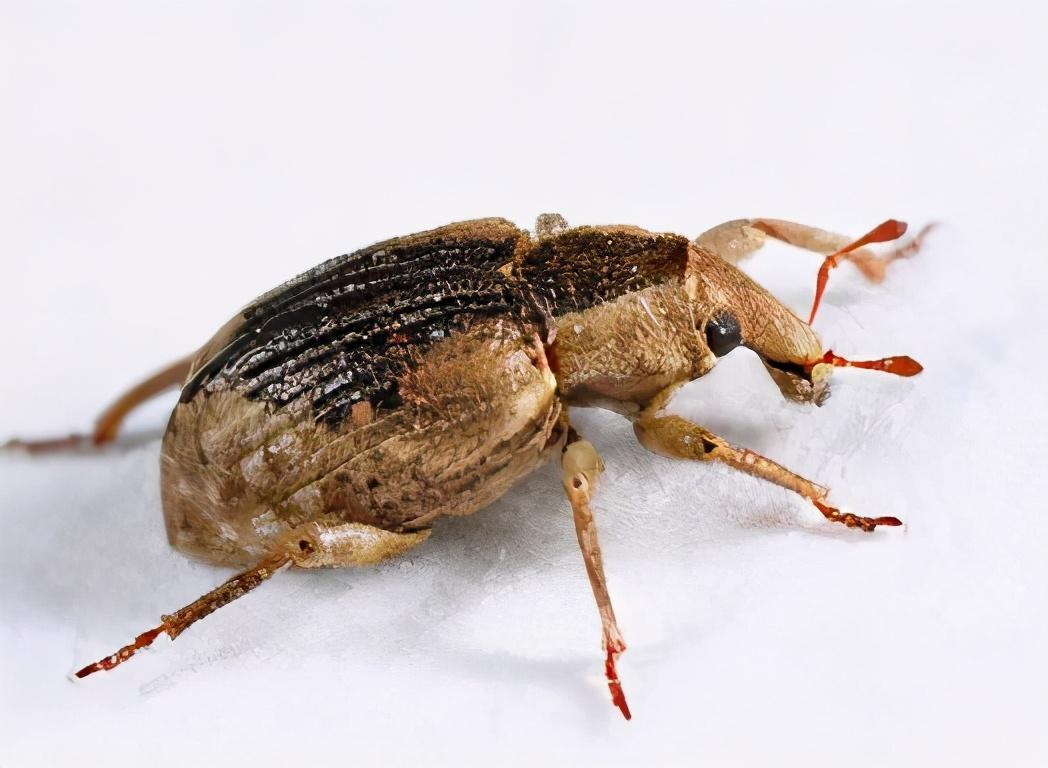Curculionidae: (3, 210, 943, 719)
